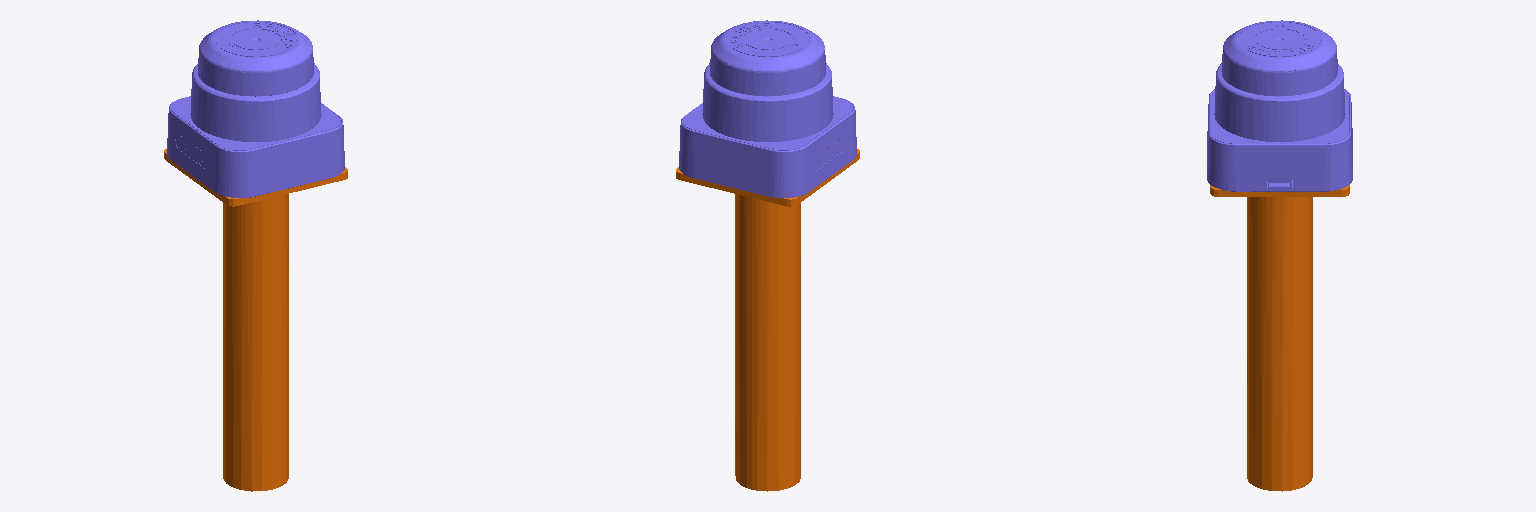
The robot description file, URDF, robot "S1_HAND_HELD":
<?xml version="1.0" encoding="utf-8"?>
<!-- This URDF was automatically created by SolidWorks to URDF Exporter! Originally created by [author] ([email redacted]) 
     Commit Version: 1.6.0-4-g7f85cfe  Build Version: 1.6.7995.38578
     For more information, please see http://wiki.ros.org/sw_urdf_exporter -->
<robot
  name="S1_HAND_HELD">
  <link
    name="base_link">
    <inertial>
      <origin
        xyz="0 0 0"
        rpy="0 0 0" />
      <mass
        value="0.033053" />
      <inertia
        ixx="6.642E-05"
        ixy="-3.0321E-22"
        ixz="-2.0143E-21"
        iyy="6.642E-05"
        iyz="1.8203E-20"
        izz="7.1473E-06" />
    </inertial>
    <visual>
      <origin
        xyz="0 0 0"
        rpy="1.57 0 0" />
      <geometry>
        <mesh
          filename="package://rplidar_s1_detect/meshes/base_link.STL" />
      </geometry>
      <material
        name="">
        <color
          rgba="0.9843 0.5137 0.0824 1" />
      </material>
    </visual>
    <collision>
      <origin
        xyz="0 0 0"
        rpy="0 0 0" />
      <geometry>
        <mesh
          filename="package://rplidar_s1_detect/meshes/base_link.STL" />
      </geometry>
    </collision>
  </link>
  <link
    name="laser_link">
    <inertial>
      <origin
        xyz="0 0 0"
        rpy="0 0 0" />
      <mass
        value="0.017281" />
      <inertia
        ixx="6.8894E-06"
        ixy="4.2987E-10"
        ixz="1.2876E-07"
        iyy="6.8302E-06"
        iyz="1.1628E-10"
        izz="1.0475E-05" />
    </inertial>
    <visual>
      <origin
        xyz="0 0 -0.031"
        rpy="1.57 0 3.14" />
      <geometry>
        <mesh
          filename="package://rplidar_s1_detect/meshes/laser_link.STL" />
      </geometry>
      <material
        name="">
        <color
          rgba="0.5569 0.5137 1 1" />
      </material>
    </visual>
    <collision>
      <origin
        xyz="0 0 0"
        rpy="0 0 0" />
      <geometry>
        <mesh
          filename="package://rplidar_s1_detect/meshes/laser_link.STL" />
      </geometry>
    </collision>
  </link>
  <joint
    name="laser_joint"
    type="fixed">
    <origin
      xyz="0 0 0.031"
      rpy="0 0 0" />
    <parent
      link="base_link" />
    <child
      link="laser_link" />
    <axis
      xyz="0 0 0" />
  </joint>
</robot>

--- Render facts (derived) ---
The picture shows the robot from 3 angles, left to right: view 1: azimuth 30°, elevation 25°; view 2: azimuth 150°, elevation 25°; view 3: azimuth 270°, elevation 25°; orthographic projection.
Model S1_HAND_HELD with 2 links and 1 joints (1 fixed), rooted at base_link, posed every joint at zero.
Links seen in each view (by area): view 1: laser_link, base_link; view 2: laser_link, base_link; view 3: laser_link, base_link.
Boxes of the visible links, x1=… form: laser_link: x1=167, y1=20, x2=344, y2=197; base_link: x1=164, y1=149, x2=347, y2=491; laser_link: x1=679, y1=20, x2=856, y2=197; base_link: x1=676, y1=149, x2=859, y2=491; laser_link: x1=1207, y1=20, x2=1352, y2=191; base_link: x1=1210, y1=185, x2=1349, y2=491.
Size in the robot's own frame: 0.0555 by 0.0555 by 0.1838 metres.
2 mesh visuals loaded from 2 distinct referenced files (2 binary STL).